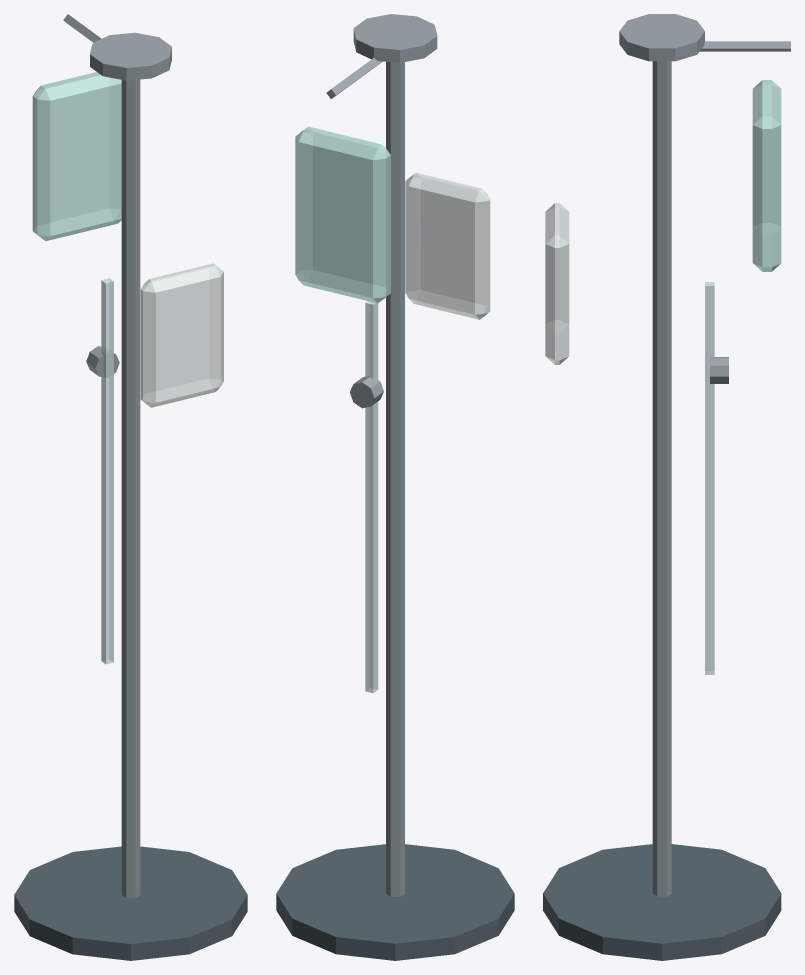
Rendered from decor_2.fbx.
The picture shows the model from 3 angles, left to right: view 1: azimuth 30°, elevation 25°; view 2: azimuth 150°, elevation 25°; view 3: azimuth 270°, elevation 25°; orthographic projection. The views are drawn at different scales.
Visible parts, largest first — view 1: decor_2; view 2: decor_2; view 3: decor_2.
Boxes of the visible parts, x1,y1,x2,y2 form: decor_2: (14, 14, 247, 960); decor_2: (276, 14, 514, 960); decor_2: (543, 14, 790, 960).
Bounding box in the file's own units: 0.5 × 2.04 × 0.52.
